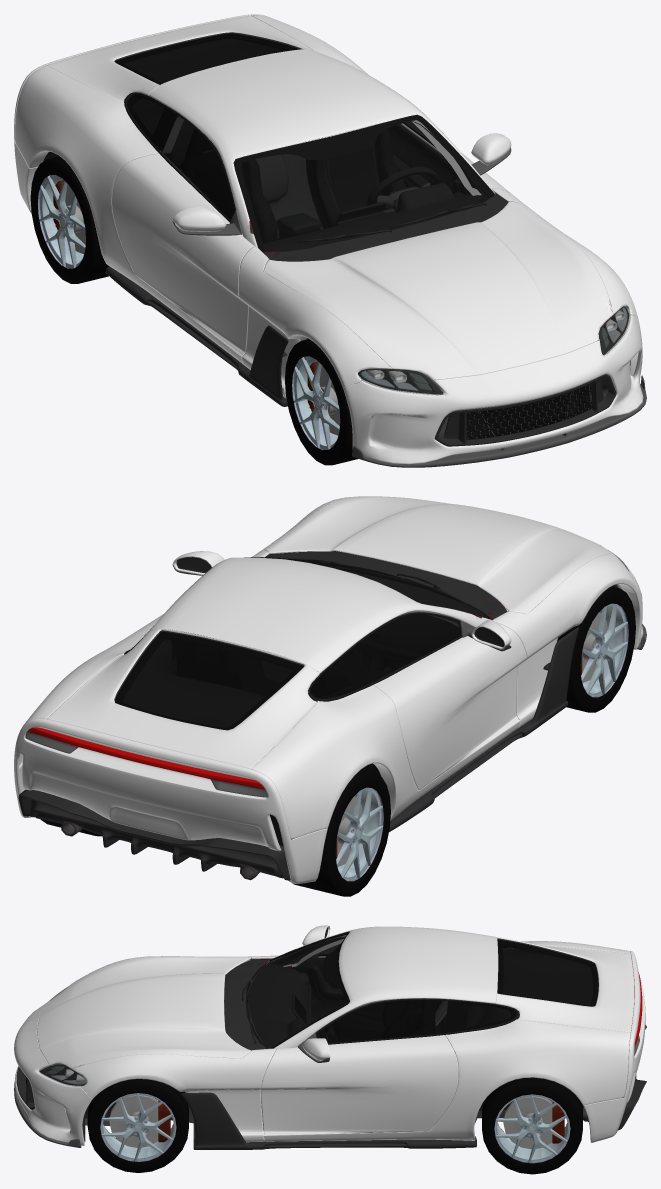
The picture shows the model from 3 angles, top to bottom: view 1: azimuth 30°, elevation 25°; view 2: azimuth 150°, elevation 25°; view 3: azimuth 270°, elevation 25°; orthographic projection. The views are drawn at different scales.
Visible parts, largest first — view 1: body, hood, glass-windshield, front-bumper, door.r, side-fender.r, interior-roof-rear-trim, trunk, seat-back-01, glass-rear, dashboard-base, side-fender-aero.r (+22 smaller); view 2: body, rear-bumper, hood, trunk, door.r, glass-rear, side-fender.r, rear-diffusor-v2, interior-roof-rear-trim, dashboard-base, window-front.r, side-fender-aero.r (+14 smaller); view 3: body, hood, door.l, side-fender.l, glass-windshield, trunk, glass-rear, interior-roof-rear-trim, front-bumper, side-fender-aero.l, dashboard-base, window-front.l (+20 smaller).
Boxes of the visible parts, x1,y1,x2,y2 form: body: [15, 15, 495, 363]; hood: [263, 201, 613, 380]; glass-windshield: [234, 115, 494, 251]; front-bumper: [343, 314, 643, 464]; door.r: [111, 153, 254, 356]; side-fender.r: [238, 246, 391, 398]; interior-roof-rear-trim: [124, 39, 490, 232]; trunk: [47, 15, 313, 105]; seat-back-01: [306, 129, 406, 228]; glass-rear: [114, 32, 302, 84]; dashboard-base: [263, 183, 488, 251]; side-fender-aero.r: [105, 266, 288, 406]; body: [19, 557, 520, 839]; rear-bumper: [14, 718, 327, 883]; hood: [263, 496, 612, 613]; trunk: [47, 628, 319, 768]; door.r: [374, 622, 527, 789]; glass-rear: [114, 630, 304, 730]; side-fender.r: [492, 553, 637, 728]; rear-diffusor-v2: [18, 789, 290, 880]; interior-roof-rear-trim: [123, 640, 351, 727]; dashboard-base: [347, 571, 488, 671]; window-front.r: [353, 612, 461, 681]; side-fender-aero.r: [389, 627, 578, 831]; body: [116, 926, 630, 1141]; hood: [37, 956, 250, 1068]; door.l: [260, 1035, 458, 1135]; side-fender.l: [72, 1048, 275, 1142]; glass-windshield: [245, 932, 349, 1048]; trunk: [495, 937, 634, 1032]; glass-rear: [497, 938, 598, 1006]; interior-roof-rear-trim: [267, 936, 592, 1053]; front-bumper: [14, 1001, 92, 1145]; side-fender-aero.l: [181, 1092, 476, 1149]; dashboard-base: [246, 964, 311, 1081]; window-front.l: [316, 998, 448, 1042].
Size of the model in its own units: 2.27 by 1.35 by 4.73.
20 materials, 7 textured.
